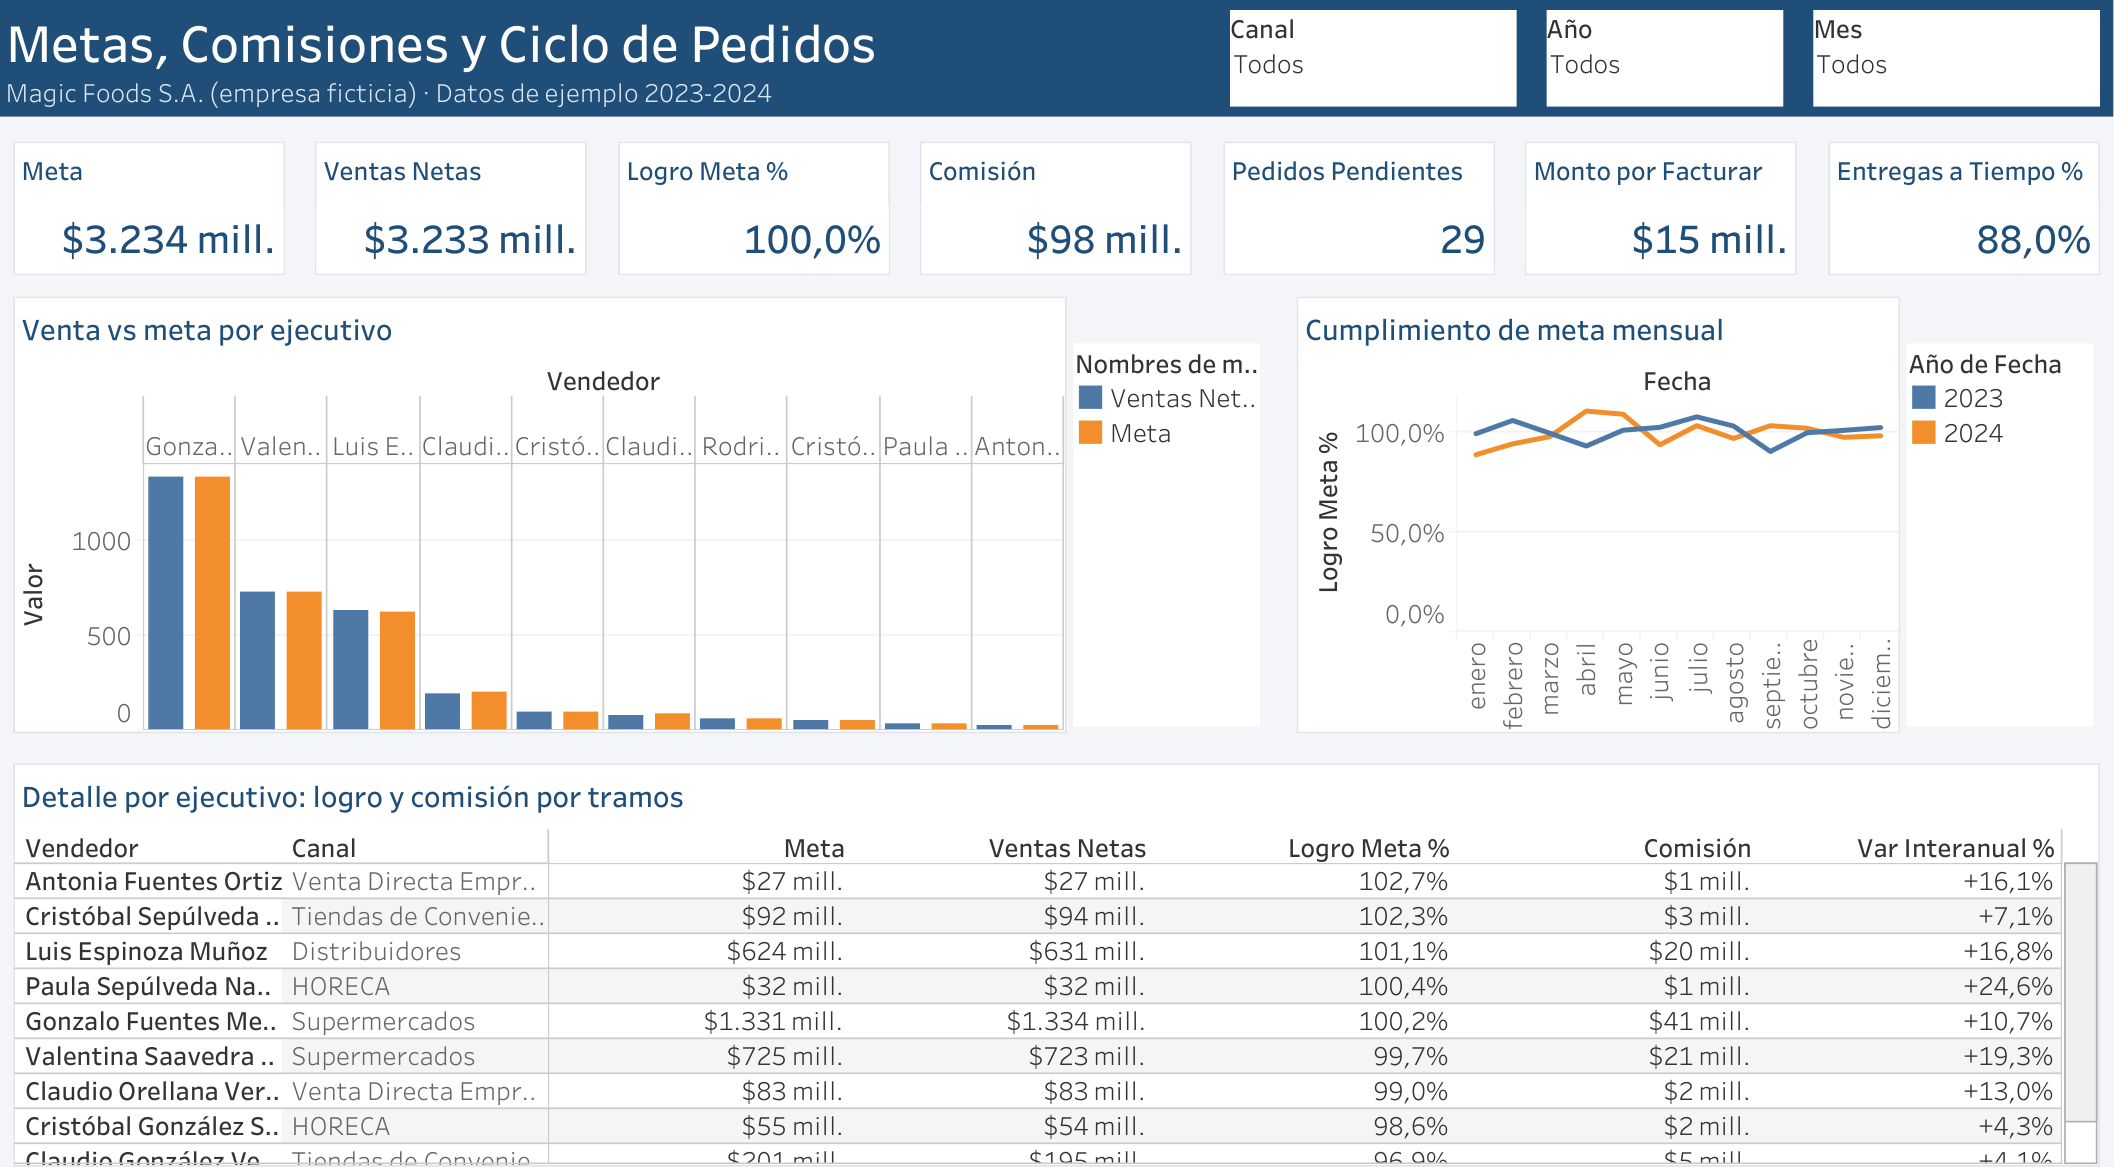

Layout of this report page (visuals, bound fields, positions):
{"tool":"tableau","page":{"name":"Metas y Pedidos","canvas":[1280,720],"ordinal":1},"visuals":[{"type":"text","box":[0,0,1280,82]},{"type":"parameter","param":"[Parameters].[pCanal]","box":[740,8,180,66]},{"type":"parameter","param":"[Parameters].[pAnio]","box":[930,8,150,66]},{"type":"parameter","param":"[Parameters].[pMes]","box":[1090,8,180,66]},{"type":"worksheet","title":"M · Meta","mark":"Text","box":[10,87,171,88]},{"type":"worksheet","title":"M · Ventas","mark":"Text","box":[191,87,171,88]},{"type":"worksheet","title":"M · Logro","mark":"Text","box":[373,87,171,88]},{"type":"worksheet","title":"M · Comision","mark":"Text","box":[554,87,171,88]},{"type":"worksheet","title":"M · Pendientes","mark":"Text","box":[736,87,171,88]},{"type":"worksheet","title":"M · Por Facturar","mark":"Text","box":[917,87,171,88]},{"type":"worksheet","title":"M · Entregas a Tiempo","mark":"Text","box":[1099,87,171,88]},{"type":"worksheet","title":"M · Venta vs Meta","mark":"Bar","cols":["Vendedor"],"box":[10,180,640,270]},{"type":"worksheet","title":"M · Logro Mensual","mark":"Line","rows":["Logro"],"cols":["Fecha"],"box":[780,180,370,270]},{"type":"legend","title":"M · Venta vs Meta","param":"[federated.e2b65168762a71e1126f0808ad86].[:Measure Names]","box":[650,212,112,230]},{"type":"legend","title":"M · Logro Mensual","param":"[federated.e2b65168762a71e1126f0808ad86].[yr:Fecha:ok]","box":[1150,212,112,230]},{"type":"worksheet","title":"M · Detalle Ejecutivo","mark":"Text","rows":["Vendedor","Canal"],"box":[10,460,1260,250]}]}

Visuals, with their boxes in screenshot pixels (x1, y1, x2, y2), scaled from the page's 1280x720 canvas onto the 2114x1167 screenshot:
text: {"x1": 0, "y1": 0, "x2": 2113, "y2": 133}
parameter: {"x1": 1222, "y1": 13, "x2": 1519, "y2": 120}
parameter: {"x1": 1536, "y1": 13, "x2": 1784, "y2": 120}
parameter: {"x1": 1800, "y1": 13, "x2": 2097, "y2": 120}
"M · Meta" worksheet (Text marks): {"x1": 17, "y1": 141, "x2": 299, "y2": 284}
"M · Ventas" worksheet (Text marks): {"x1": 315, "y1": 141, "x2": 598, "y2": 284}
"M · Logro" worksheet (Text marks): {"x1": 616, "y1": 141, "x2": 898, "y2": 284}
"M · Comision" worksheet (Text marks): {"x1": 915, "y1": 141, "x2": 1197, "y2": 284}
"M · Pendientes" worksheet (Text marks): {"x1": 1216, "y1": 141, "x2": 1498, "y2": 284}
"M · Por Facturar" worksheet (Text marks): {"x1": 1514, "y1": 141, "x2": 1797, "y2": 284}
"M · Entregas a Tiempo" worksheet (Text marks): {"x1": 1815, "y1": 141, "x2": 2097, "y2": 284}
"M · Venta vs Meta" worksheet (Bar marks): {"x1": 17, "y1": 292, "x2": 1074, "y2": 729}
"M · Logro Mensual" worksheet (Line marks): {"x1": 1288, "y1": 292, "x2": 1899, "y2": 729}
"M · Venta vs Meta" legend: {"x1": 1074, "y1": 344, "x2": 1258, "y2": 716}
"M · Logro Mensual" legend: {"x1": 1899, "y1": 344, "x2": 2084, "y2": 716}
"M · Detalle Ejecutivo" worksheet (Text marks): {"x1": 17, "y1": 746, "x2": 2097, "y2": 1151}
